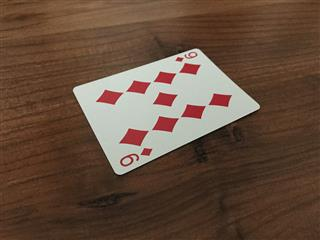NineOfDiamonds: (71, 46, 260, 175)
